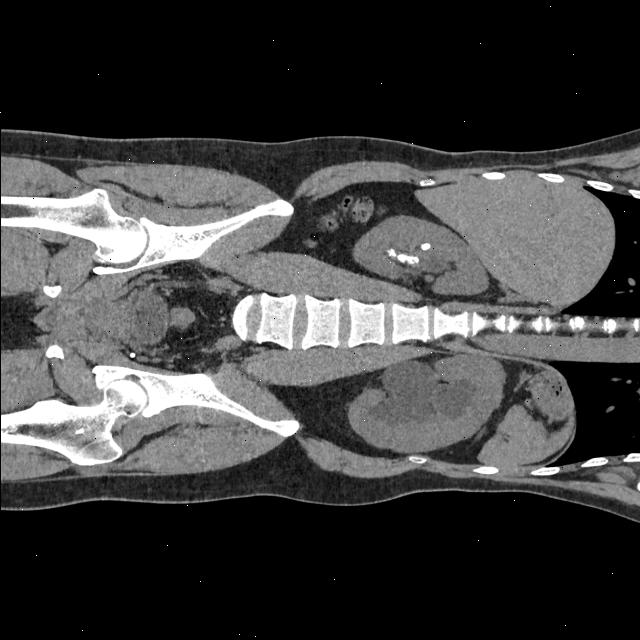kidneystone: (396, 254, 418, 264), (419, 242, 430, 251), (387, 249, 395, 258)
